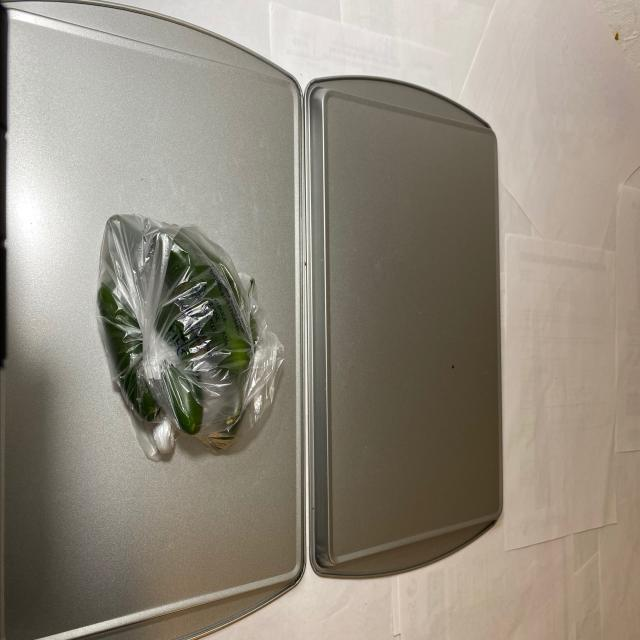chilli: (97, 233, 262, 447)
